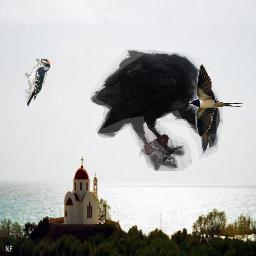Crow: (90, 49, 223, 171)
Swallow: (189, 63, 245, 139)
Woodpecker: (25, 57, 51, 107)
